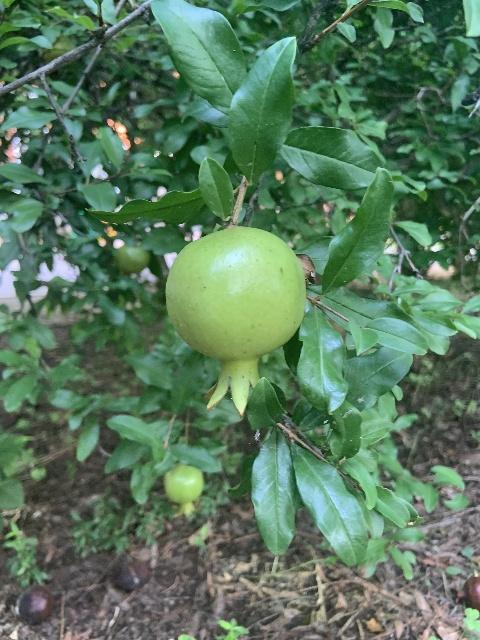mid-growth: (165, 226, 306, 418), (163, 465, 206, 521), (115, 245, 150, 276)
